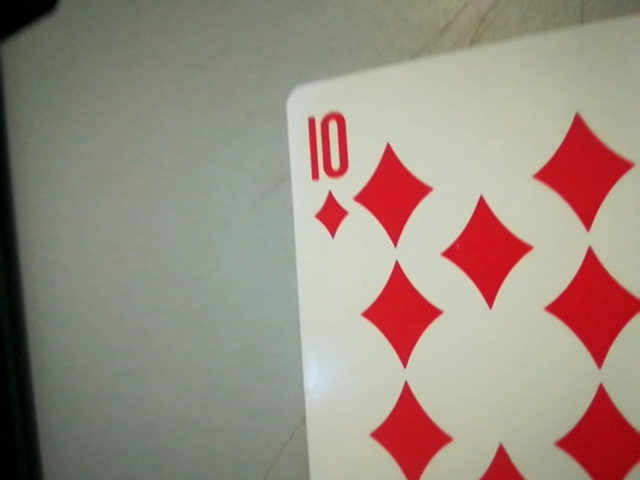fk 10: (294, 95, 360, 244)
